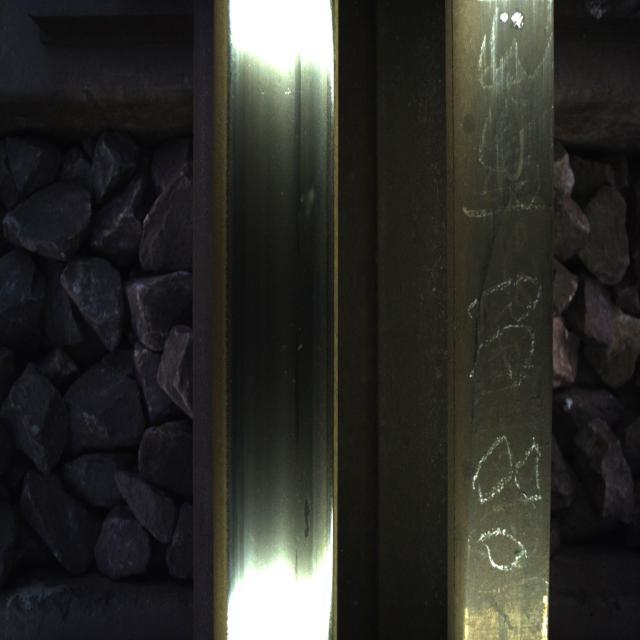normal: (244, 32, 331, 582)
